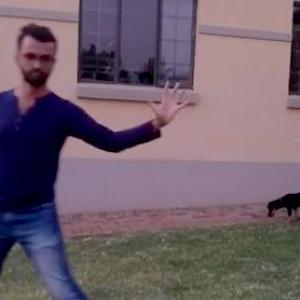follow_hand: (147, 77, 192, 122)
